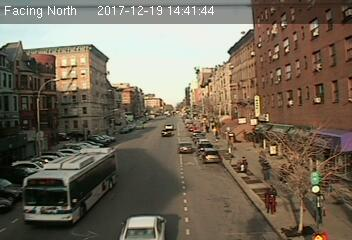bus: (21, 145, 118, 223)
car: (116, 212, 167, 240), (202, 150, 220, 163), (177, 142, 194, 154)
pedestrian: (262, 159, 272, 183)
